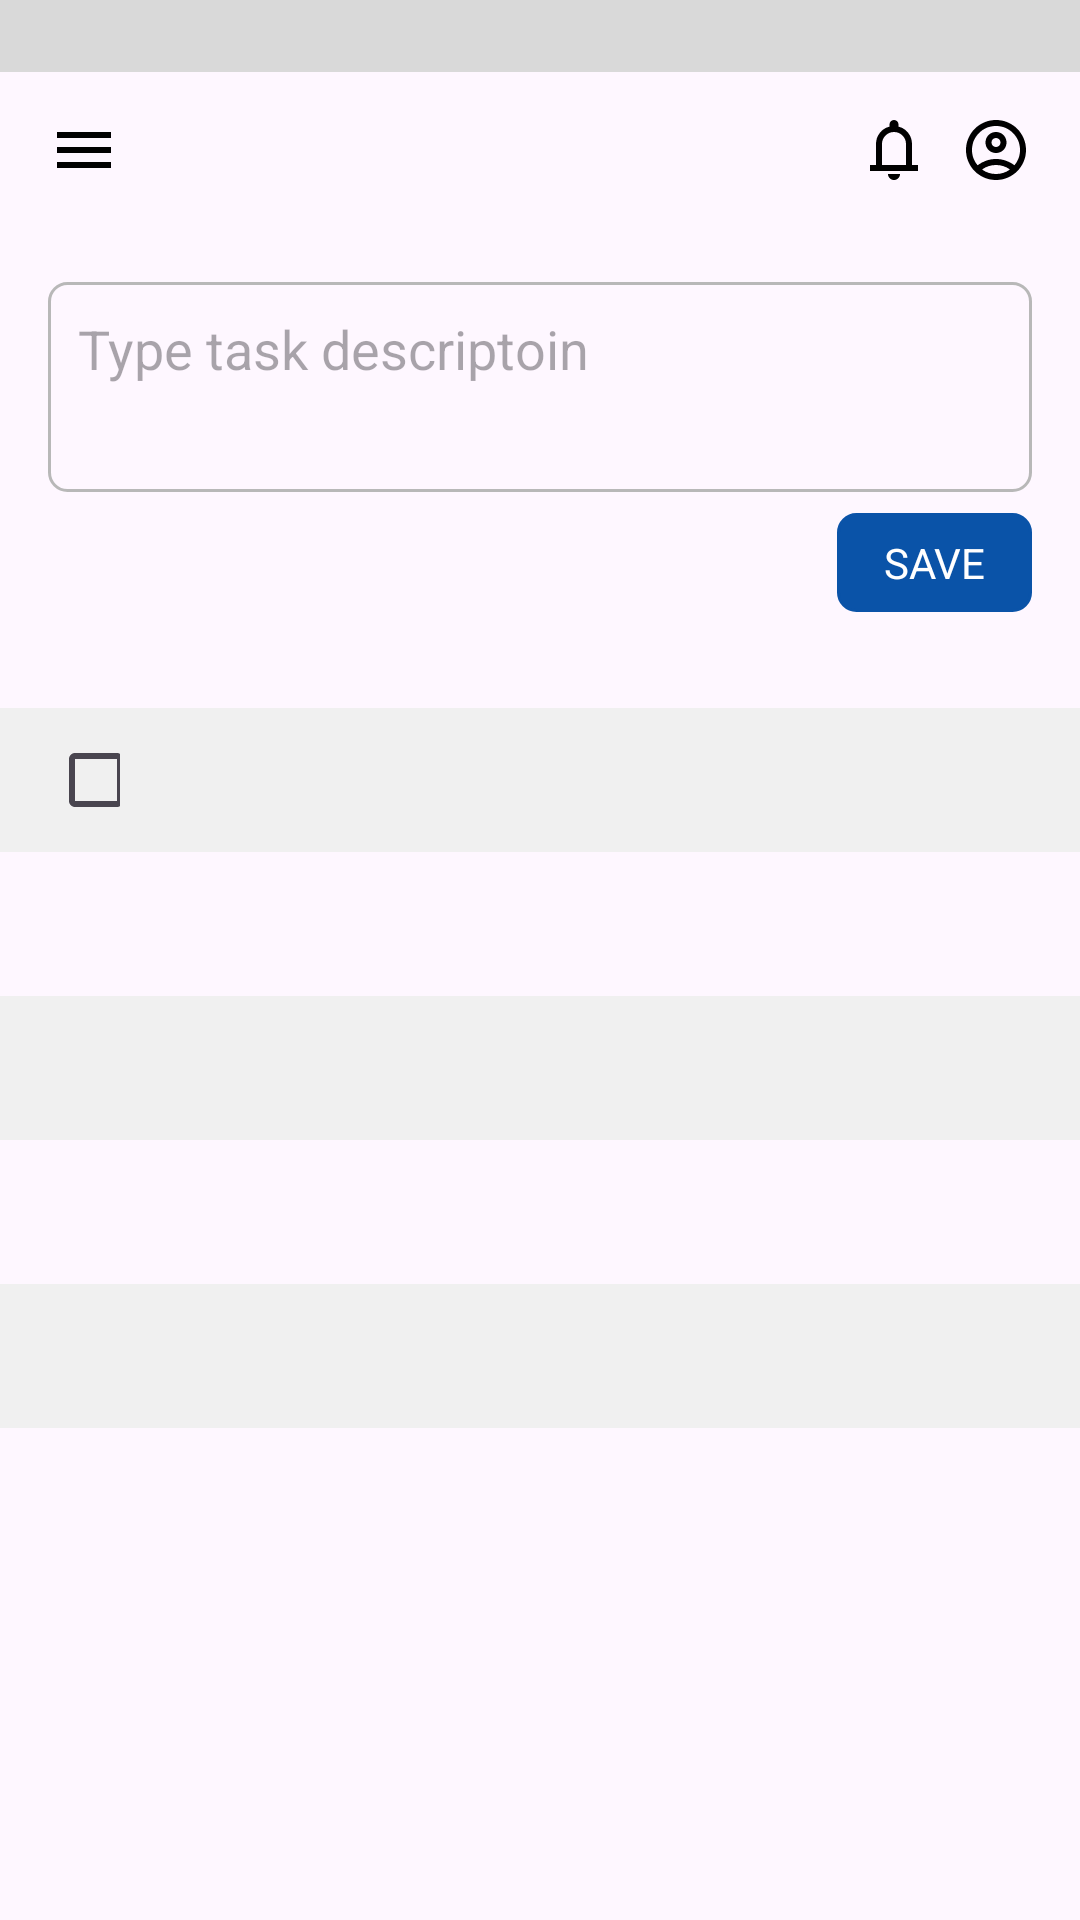

Icons on this 1080x1920 Android screen, each with its box as {"left": x1, "top": y1, "right": x2, "bottom": y2}:
account: {"left": 966, "top": 120, "right": 1026, "bottom": 180}
hamburger: {"left": 57, "top": 132, "right": 111, "bottom": 168}
notify: {"left": 870, "top": 120, "right": 918, "bottom": 180}
